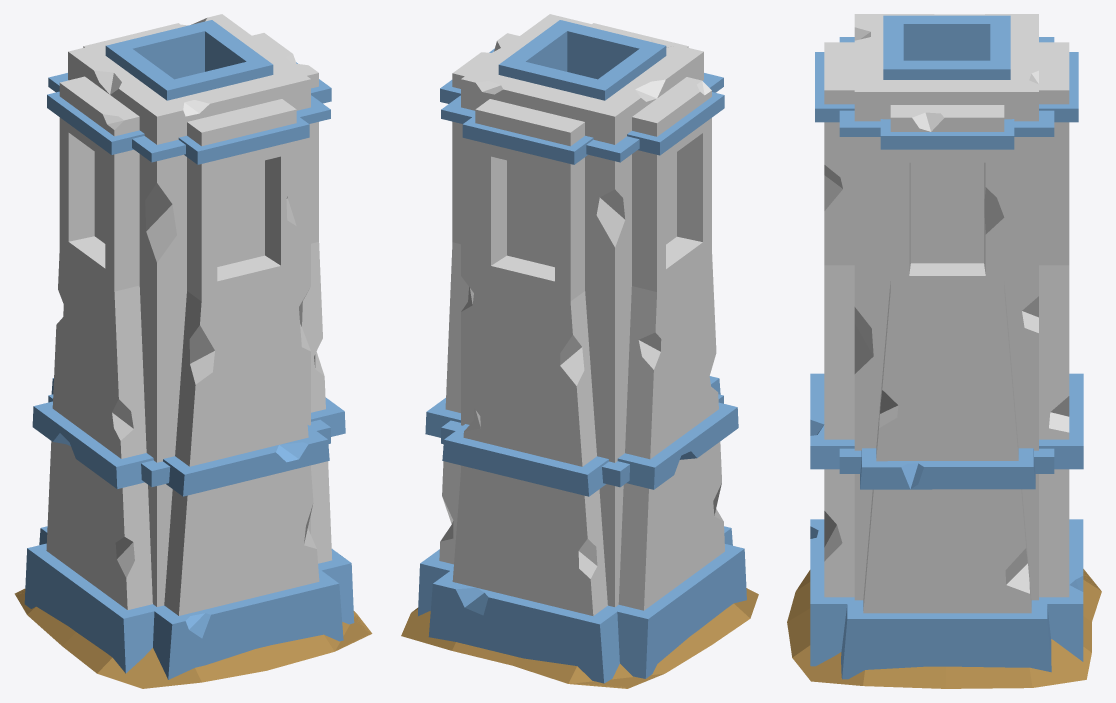
Rendered from StoneColumnBroken.fbx.
3 renders of one model, left to right at view 1: azimuth 30°, elevation 25°; view 2: azimuth 150°, elevation 25°; view 3: azimuth 270°, elevation 25°, orthographic. The views are drawn at different scales.
Parts seen in each view (by area): view 1: tower; view 2: tower; view 3: tower.
Part boxes in pixels (left/top/right/bottom): tower: left=14, top=14, right=372, bottom=688; tower: left=401, top=14, right=758, bottom=688; tower: left=787, top=14, right=1101, bottom=688.
Bounding box in the file's own units: 256 × 521 × 256.
